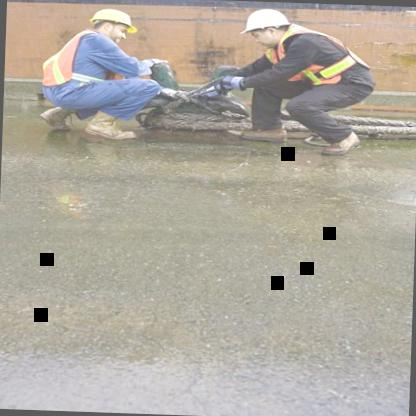helmet: (236, 2, 299, 55), (86, 1, 146, 42)
